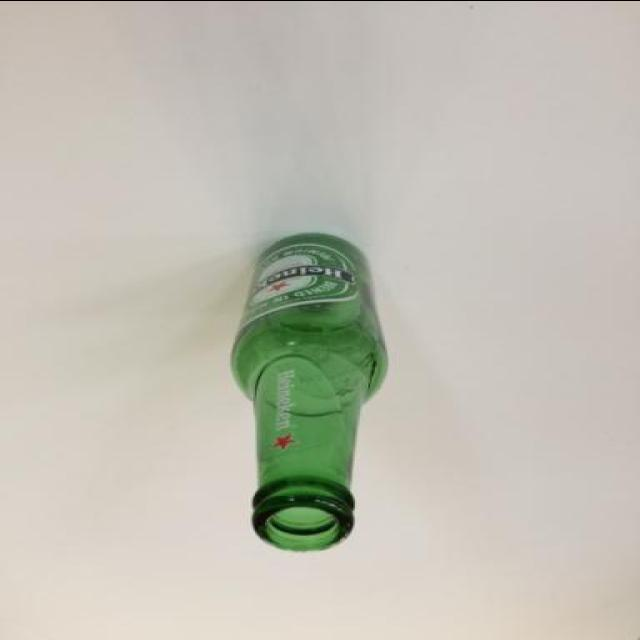glass: (227, 230, 386, 555)
